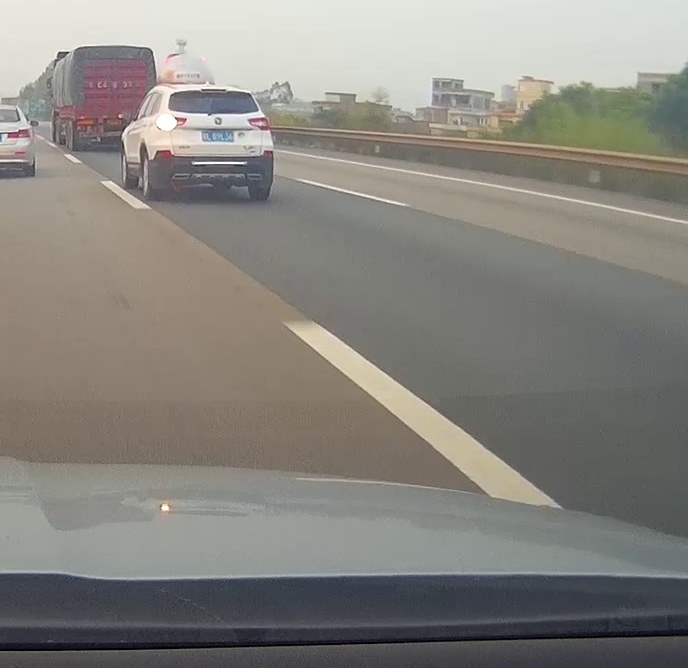L_light: (155, 114, 188, 131)
R_light: (248, 117, 270, 131)
T_light: (201, 88, 227, 92)
day-left: (152, 84, 274, 200)
